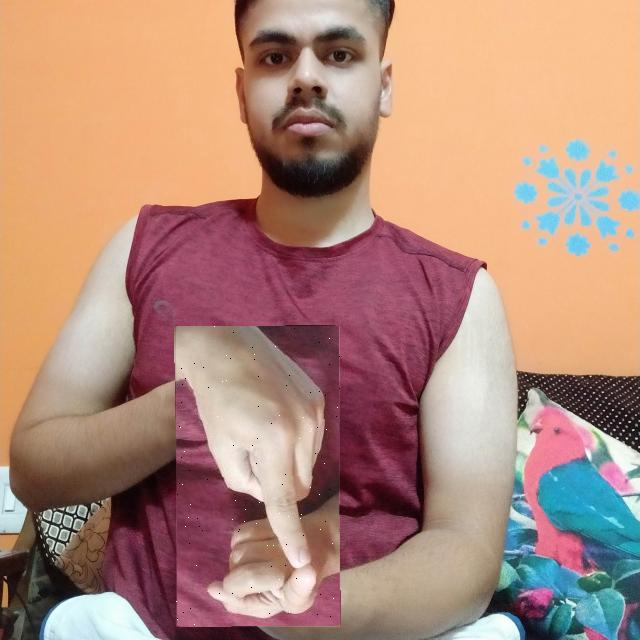I: (176, 326, 340, 627)
